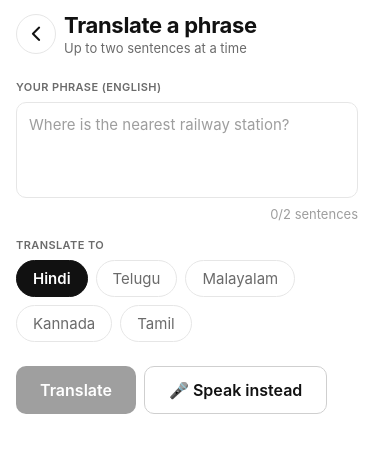
Test: TranslateScreen › shows a typed error state when translation fails
Type "hello" into the text box with test id "translate-input" at (187, 150), box [16,102,358,198]
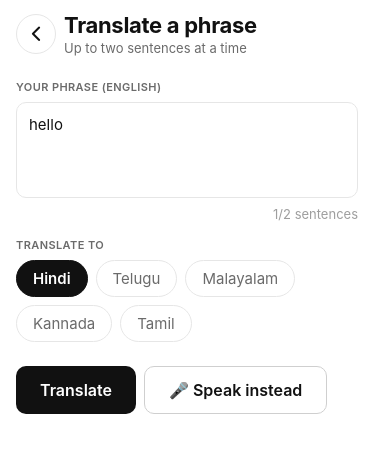
Click the button with test id "translate-button" at (76, 390), box [16,366,136,414]
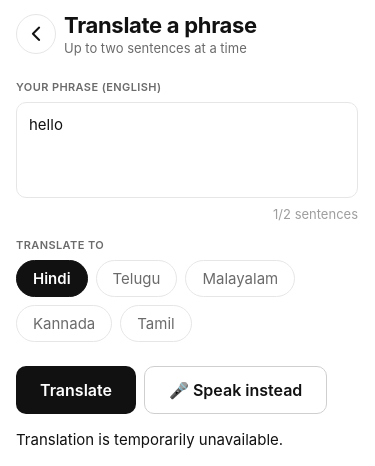
Expected: the text "Translation is temporarily unavailable." is shown, [16,430,283,449]
